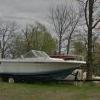Boat: (2, 43, 89, 87)
